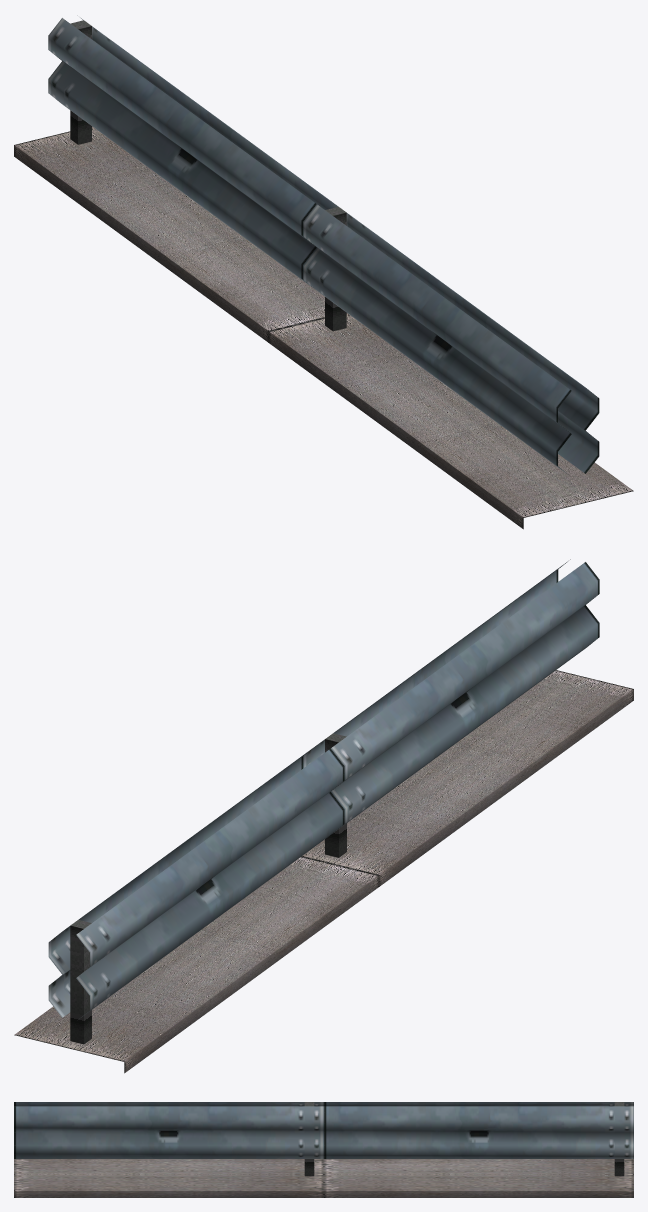
Rendered from M10_Zone1_Armco.glb.
3 renders of one model, top to bottom at view 1: azimuth 30°, elevation 25°; view 2: azimuth 150°, elevation 25°; view 3: azimuth 270°, elevation 25°, orthographic. The views are drawn at different scales.
Visible parts, largest first — view 1: M10_ZONE1_ARMCO; view 2: M10_ZONE1_ARMCO; view 3: M10_ZONE1_ARMCO.
Boxes of the visible parts, x1,y1,x2,y2 form: M10_ZONE1_ARMCO: (14,15,633,529); M10_ZONE1_ARMCO: (14,559,633,1073); M10_ZONE1_ARMCO: (14,1102,633,1197).
Size of the model in its own units: 1 by 1.1 by 8.
3 materials, 3 textured.
